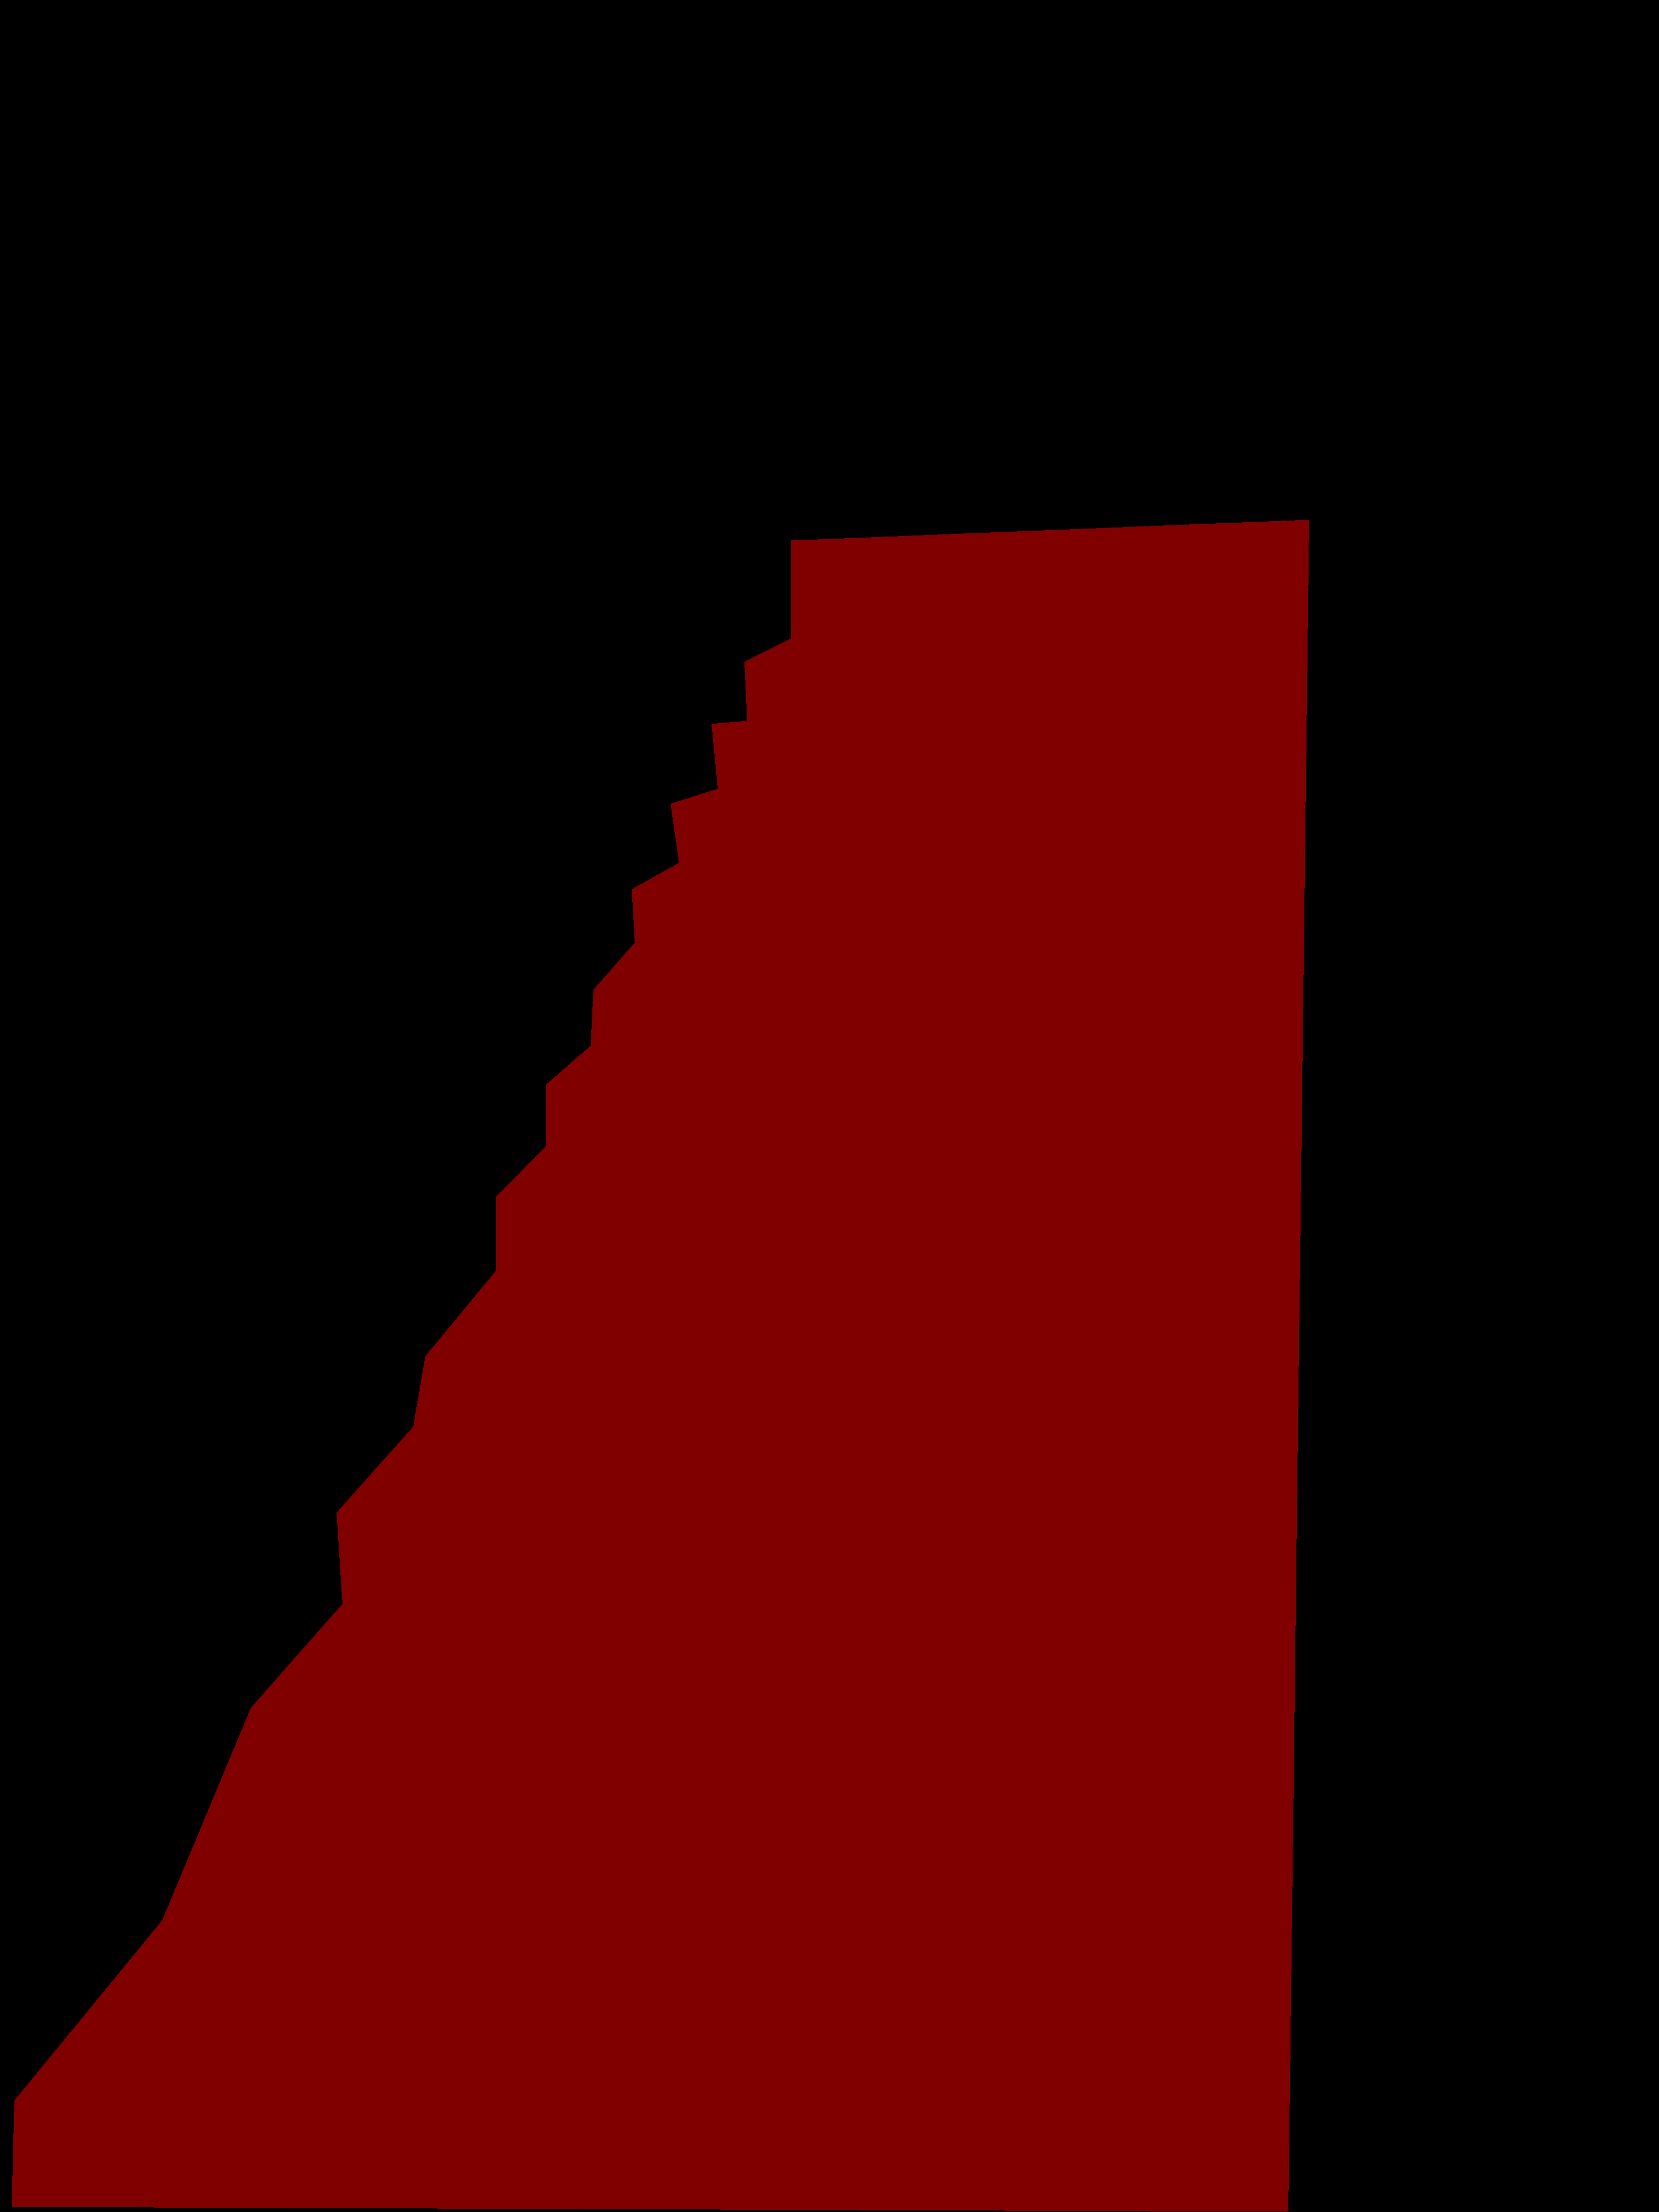stair: (12, 519, 1309, 2212)
